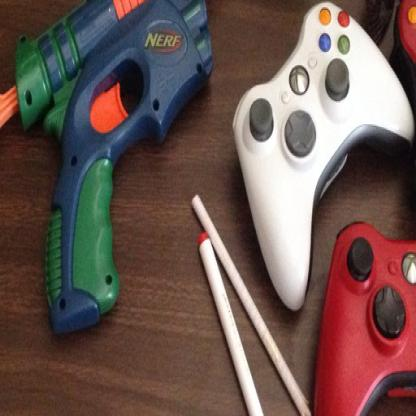gun: (0, 0, 249, 337)
